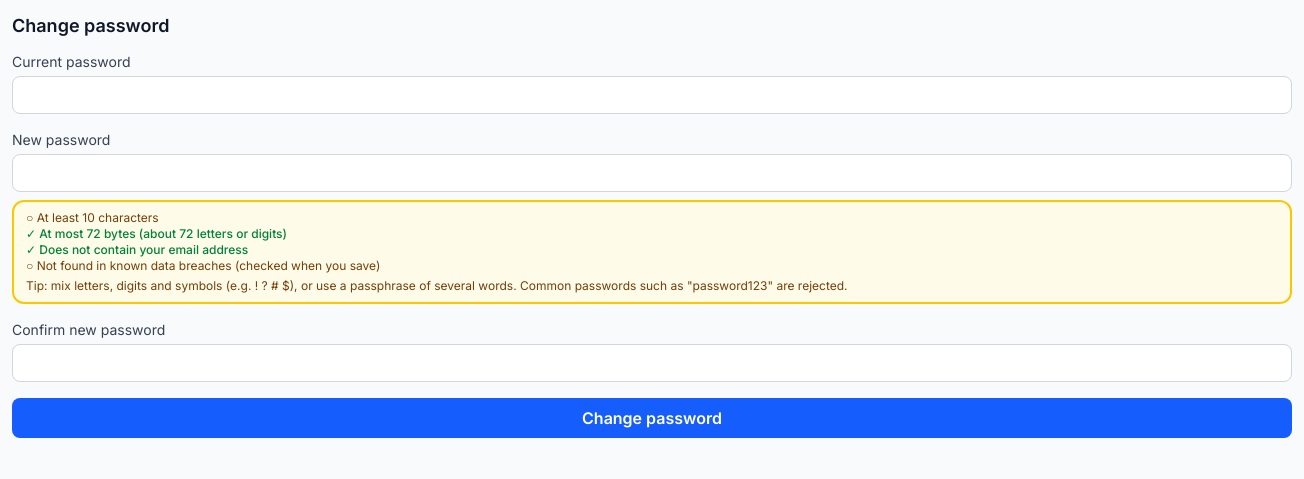
ChangePasswordForm › wrong-password shows the error under the current field and keeps the input
Type "old password 1" into the password field with test id "change-password-current" at (652, 95), box [12,76,1292,114]
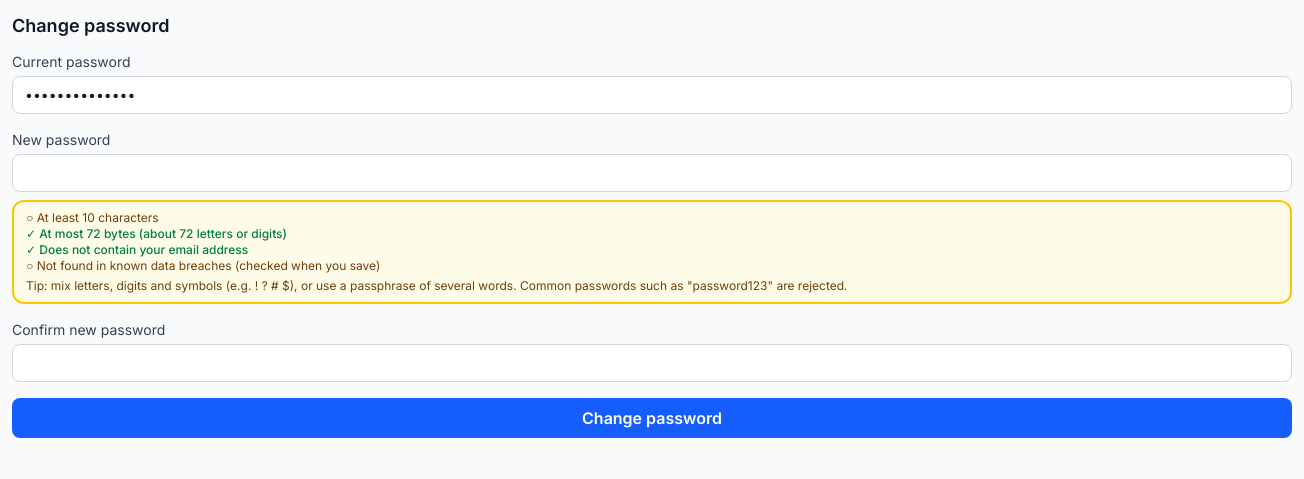
Type "brand new passphrase" into the password field with test id "change-password-new" at (652, 173), box [12,154,1292,192]
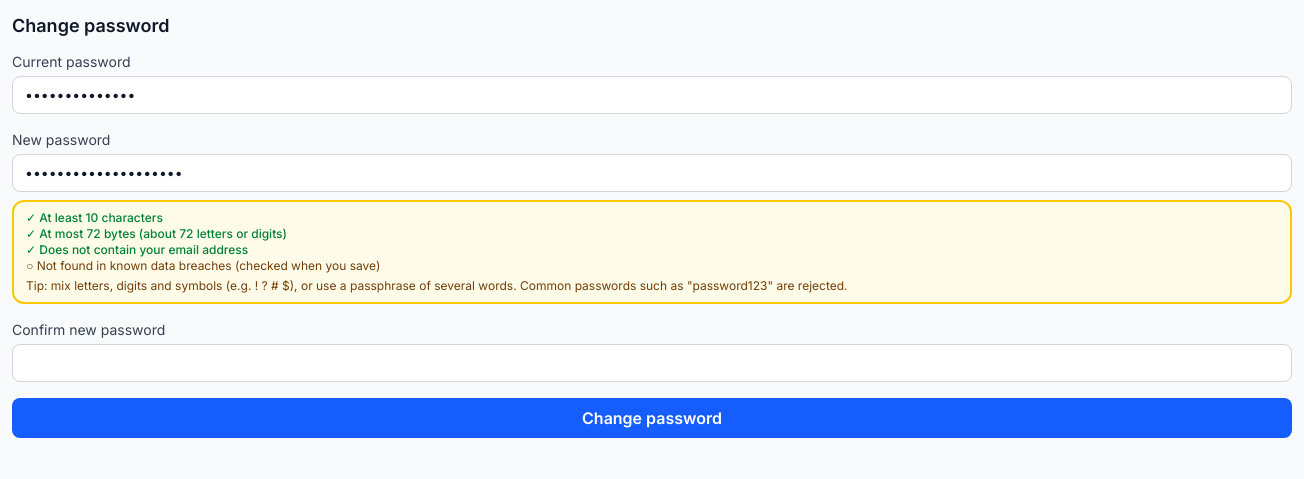
Type "brand new passphrase" into the password field with test id "change-password-confirm" at (652, 363), box [12,344,1292,382]
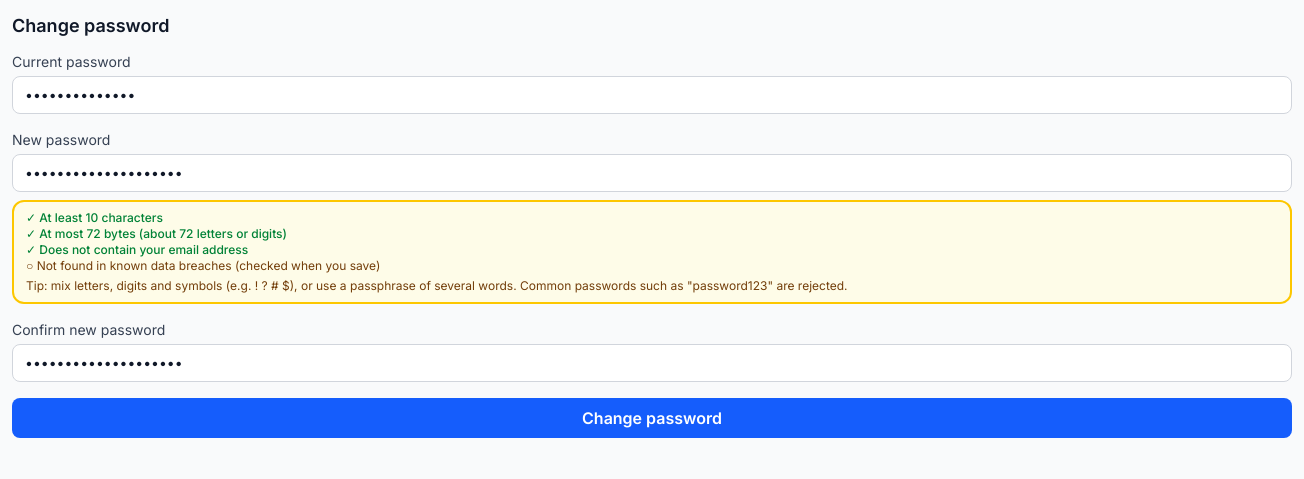
Click the button with test id "change-password-submit" at (652, 418), box [12,398,1292,438]
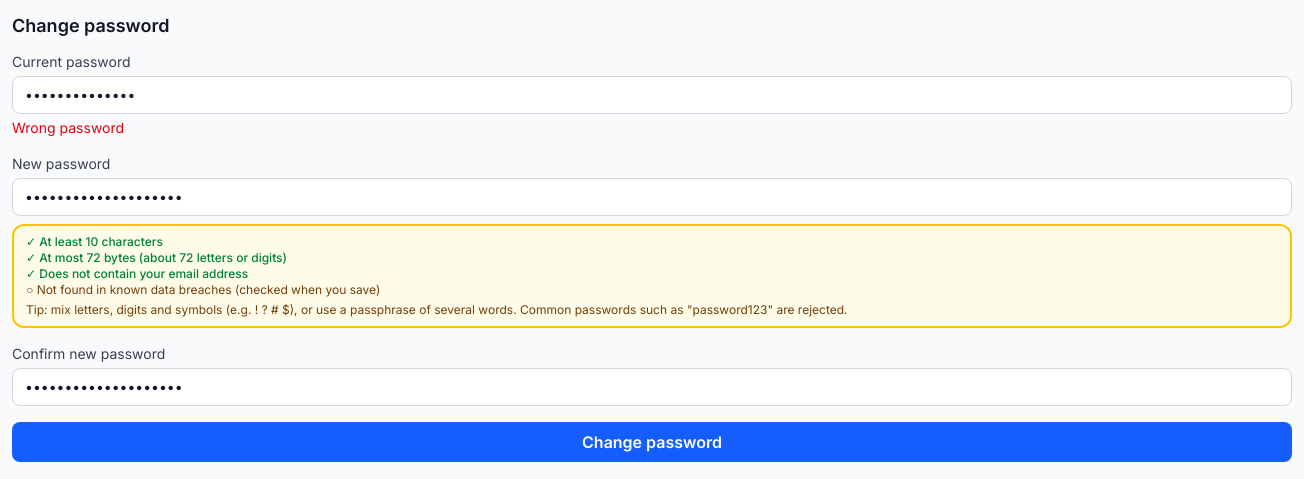
Expected: the message with test id "field-error-currentPassword" reads "Wrong password", [12,119,124,136]
